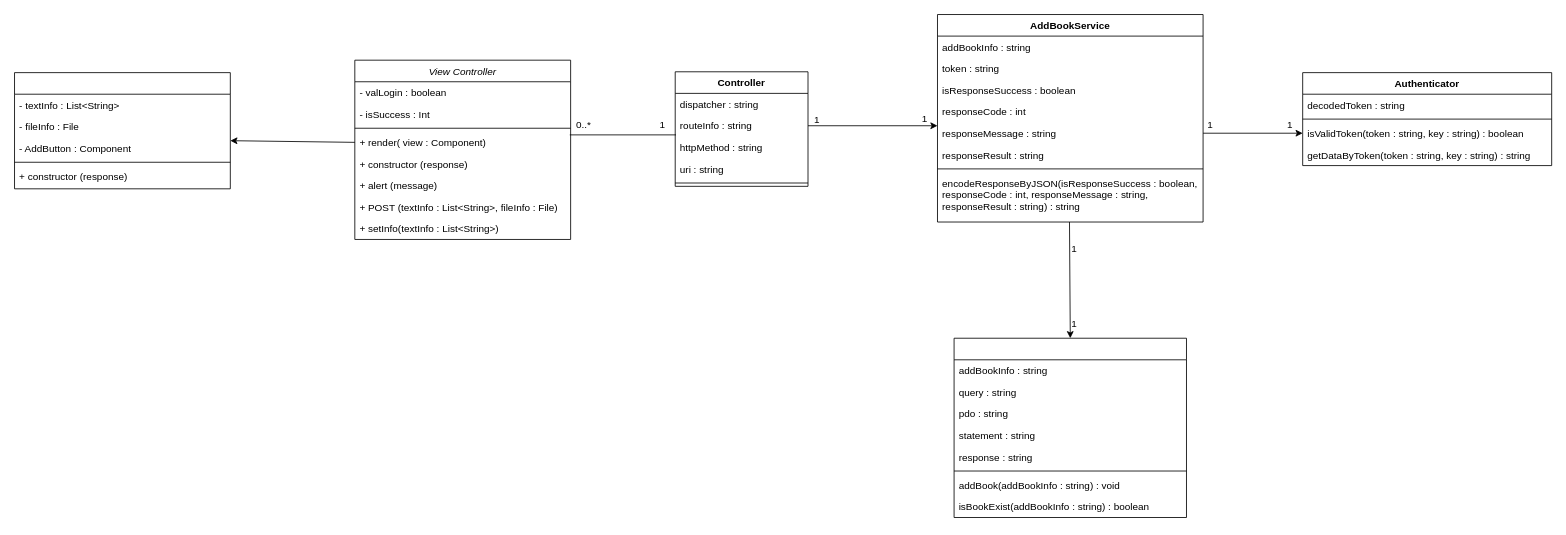
This 1566x535 diagram has some shape labels left out. The box of each missing label's shape, as (x1, y1, x2, y2) in pixels:
AddBookPDO: (953, 337, 1186, 518)
AddBooksView: (14, 72, 230, 189)
